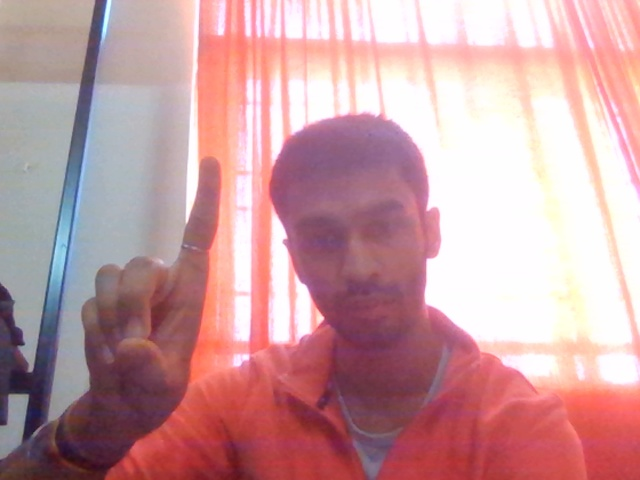D: (60, 139, 247, 468)
